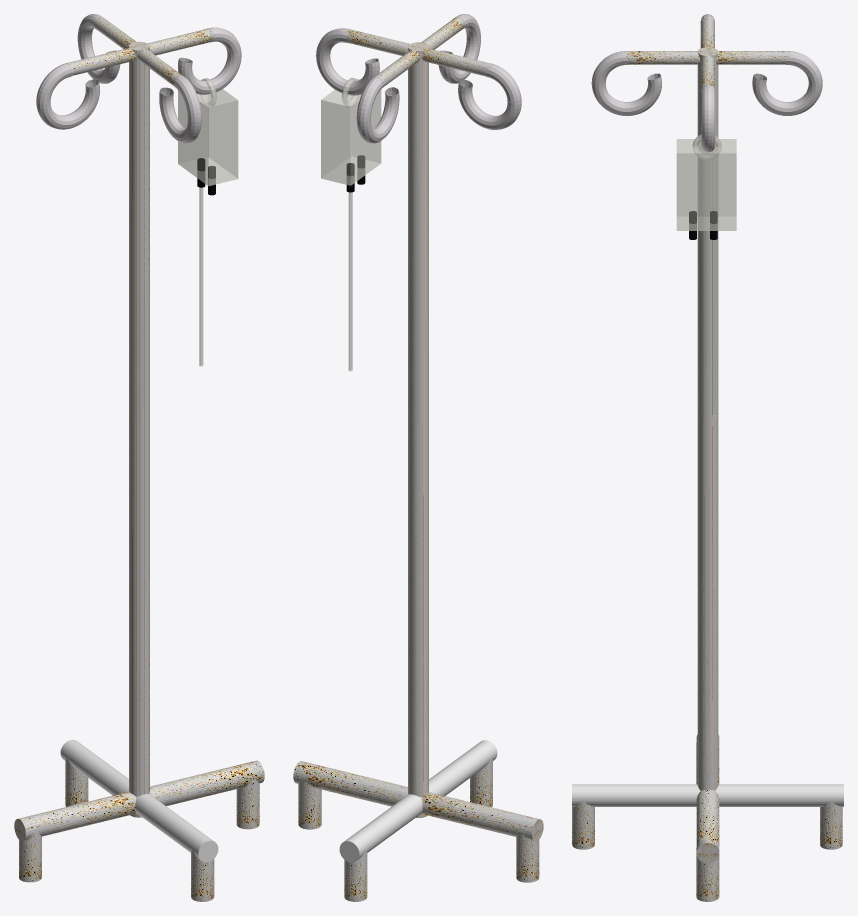
File: clean_drip.glb
3 views of the same model, side by side, from view 1: azimuth 30°, elevation 25°; view 2: azimuth 150°, elevation 25°; view 3: azimuth 270°, elevation 25° (orthographic).
Parts seen in each view (by area): view 1: Куб; view 2: Куб; view 3: Куб.
Part boxes in pixels (left/top/right/bottom): Куб: left=14, top=14, right=264, bottom=901; Куб: left=293, top=14, right=543, bottom=901; Куб: left=572, top=14, right=843, bottom=901.
Size of the model in its own units: 2.81 by 9.05 by 2.81.
Materials: 3 (1 with a texture image).
